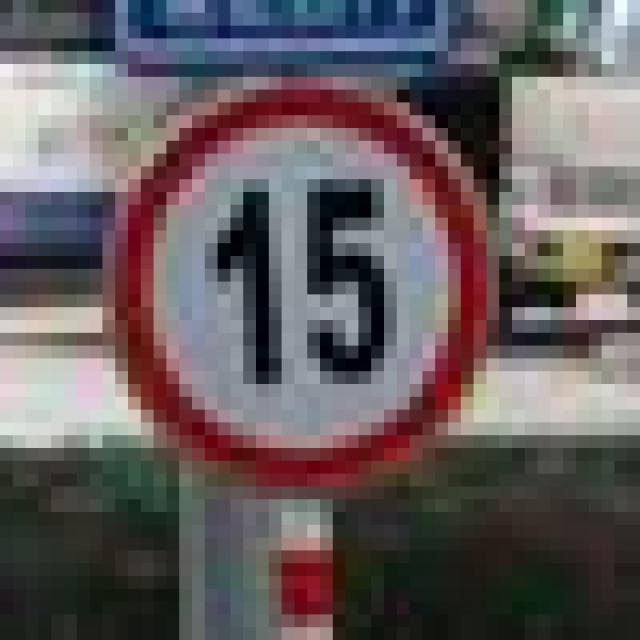SPEED_LIMIT_15: (90, 72, 506, 492)
